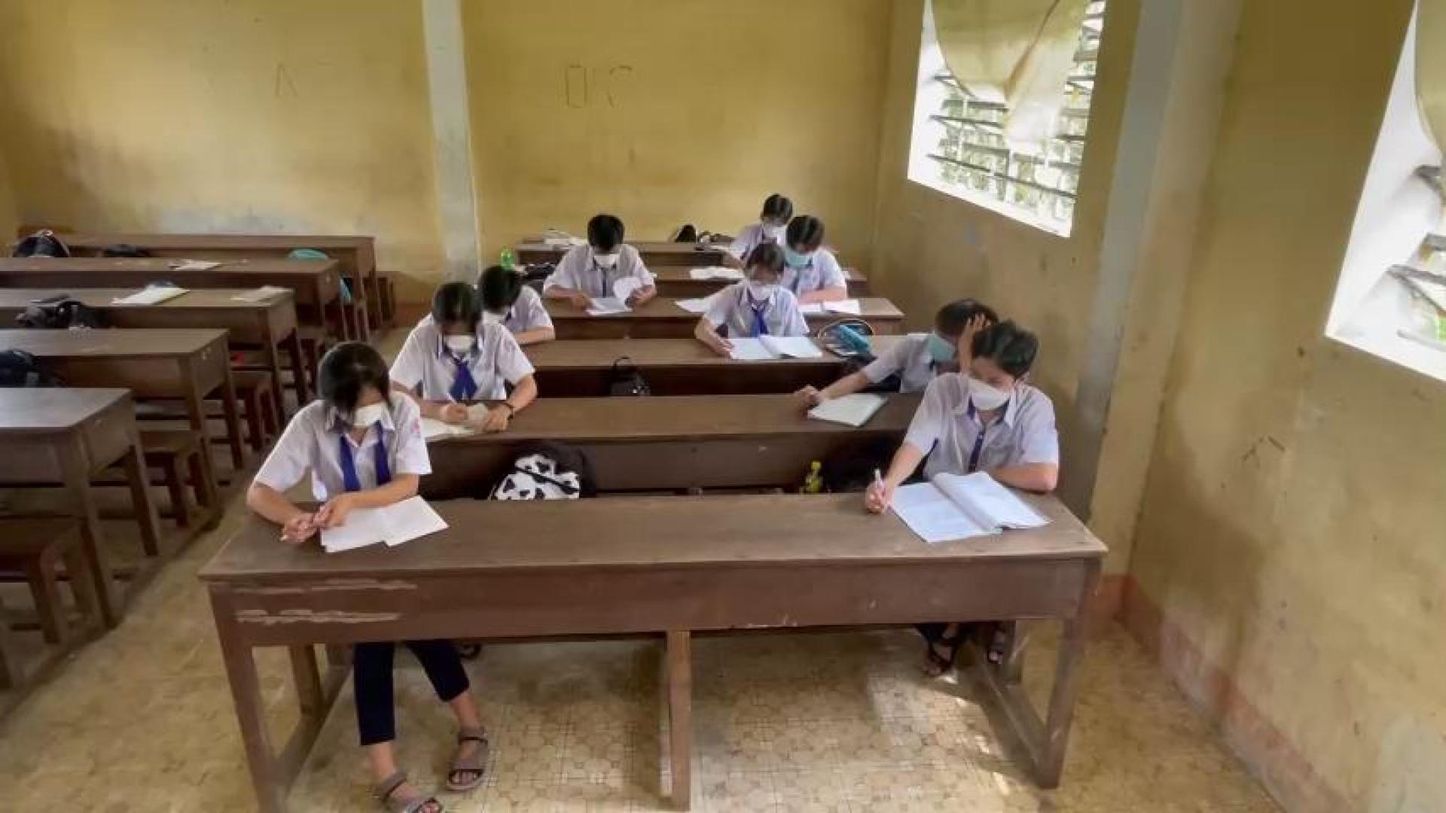Hand Under Table: (779, 281, 808, 341)
